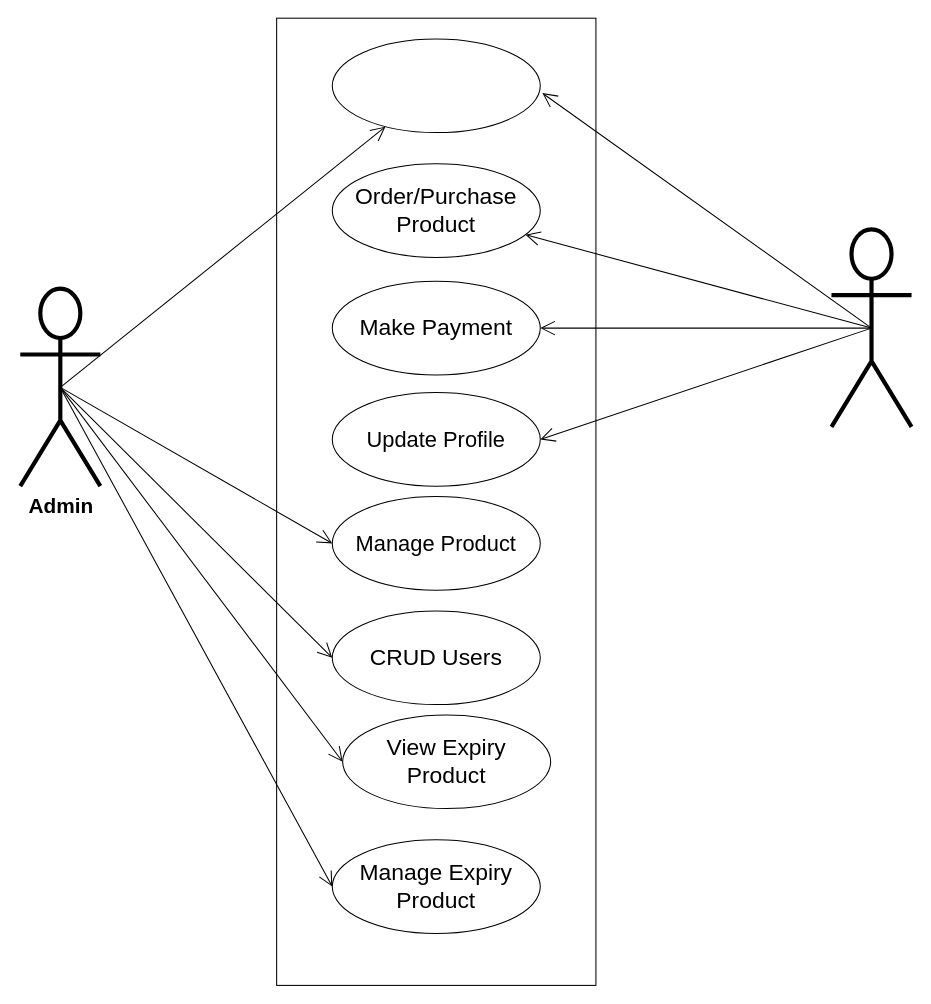
Some shapes in this 931 by 1004 pixel diagram are drawn without their labels. Each missing label, with the centre of its shape:
"Login / Logout" goes at point (435, 85).
"Users" goes at point (871, 327).
